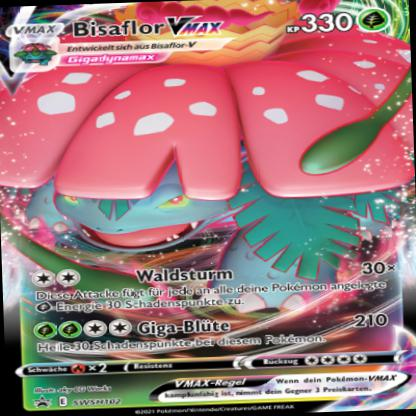Venusaur: (10, 58, 412, 270)
